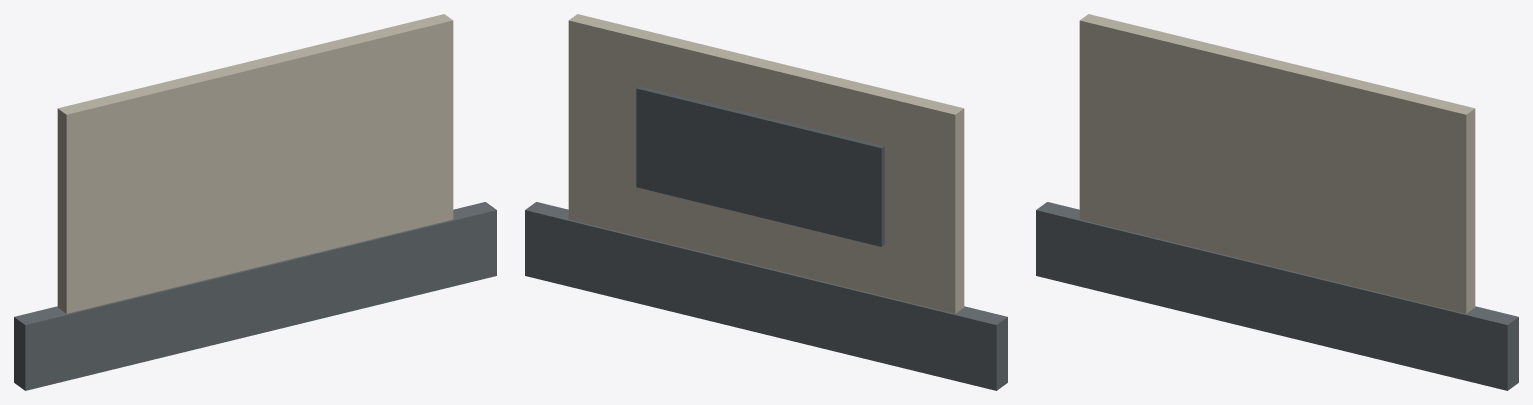
File: iz3_build_defense_wire_01.glb
The picture shows the model from 3 angles, left to right: view 1: azimuth 30°, elevation 25°; view 2: azimuth 150°, elevation 25°; view 3: azimuth 330°, elevation 25°; orthographic projection.
Visible parts, largest first — view 1: cabinet, base; view 2: cabinet, base, panel; view 3: cabinet, base.
Part boxes in pixels (<box>): cabinet: <box>57,14,453,313</box>; base: <box>14,202,496,390</box>; cabinet: <box>568,14,964,313</box>; base: <box>525,202,1007,390</box>; panel: <box>636,86,884,246</box>; cabinet: <box>1079,14,1475,313</box>; base: <box>1036,202,1518,390</box>.
Bounding box in the file's own units: 2.4 × 1.29 × 0.116.
